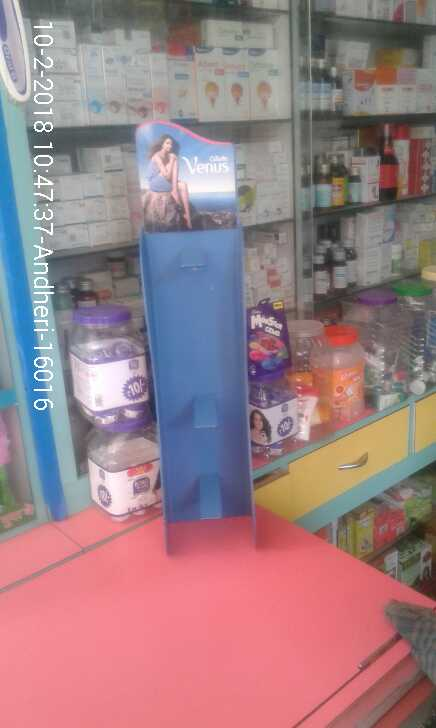reject: (148, 262, 237, 428)
